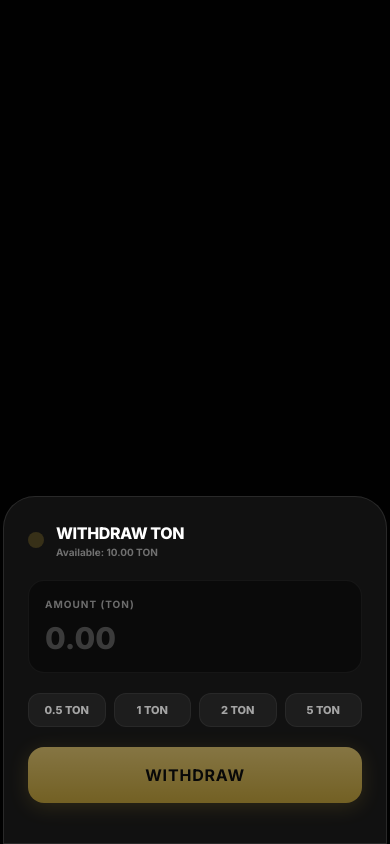
Test: TxModal Component › validates minimum withdrawal amount (0.5 TON)
Note: Set amount below minimum
Type "0.2" into the number field with placeholder "0.00" at (218, 638), box [45,620,389,656]
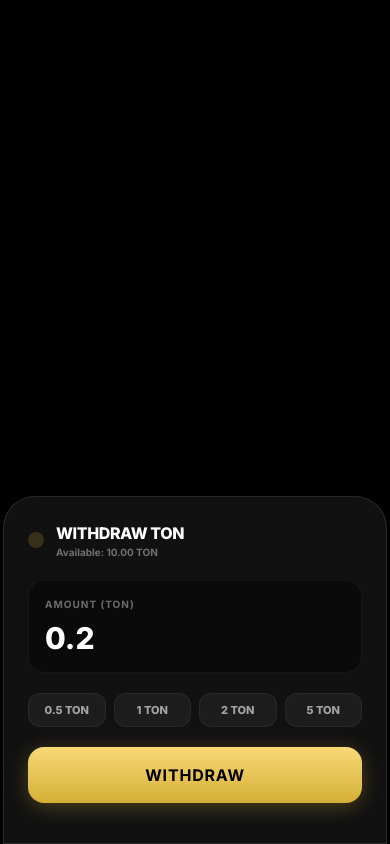
Click the button "Withdraw" at (195, 775), box [28,747,362,803]
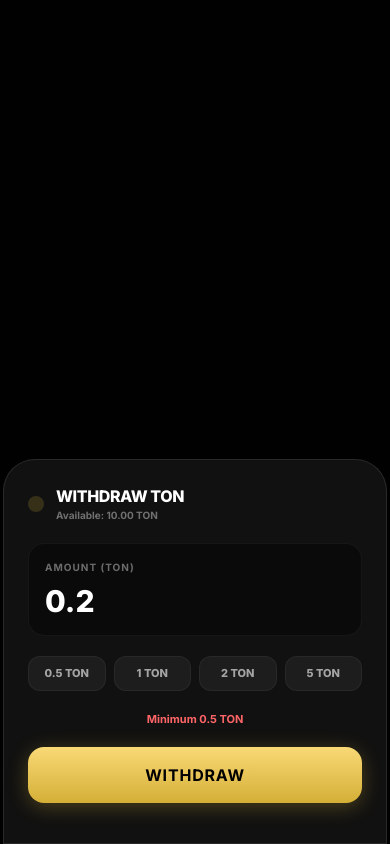
Expected: the text "Minimum 0.5 TON" is shown, [147,712,243,726]
